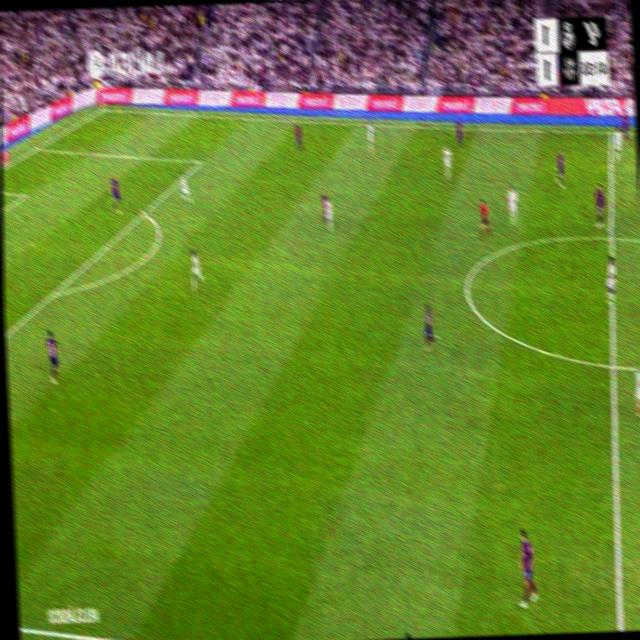bigarea_top_inner: (197, 156, 203, 166)
bigarea_top_outter: (35, 142, 40, 152)
bottom_arc_area_intersection: (51, 284, 58, 298)
corner: (100, 105, 106, 112)
halfcircle_bottom: (606, 350, 619, 378)
halfcircle_top: (605, 226, 618, 248)
midline_top_intersection: (607, 126, 614, 138)
smallarea_top_inner: (23, 190, 28, 200)
top_arc_area_intersection: (141, 205, 148, 218)
